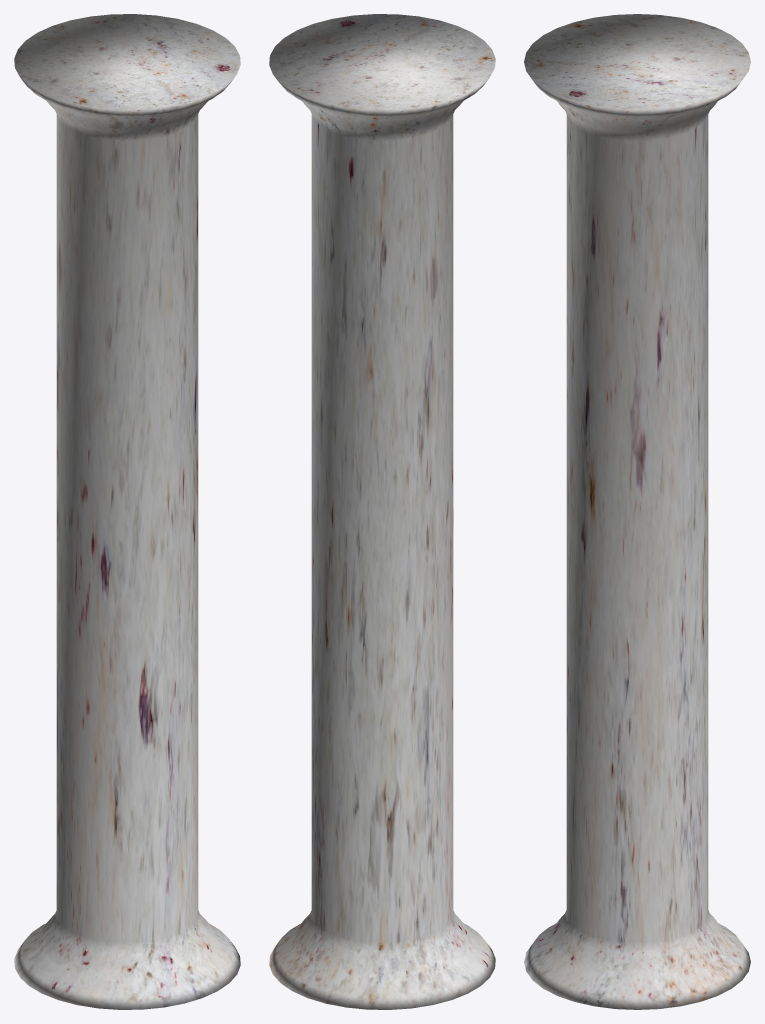
Rendered from Pillar.fbx.
3 views of the same model, side by side, from view 1: azimuth 30°, elevation 25°; view 2: azimuth 150°, elevation 25°; view 3: azimuth 270°, elevation 25° (orthographic).
Parts seen in each view (by area): view 1: Cylinder; view 2: Cylinder; view 3: Cylinder.
Part boxes in pixels (left/top/right/bottom): Cylinder: left=14, top=14, right=240, bottom=1009; Cylinder: left=269, top=14, right=495, bottom=1009; Cylinder: left=524, top=14, right=750, bottom=1009.
Bounding box in the file's own units: 320 × 1400 × 320.
